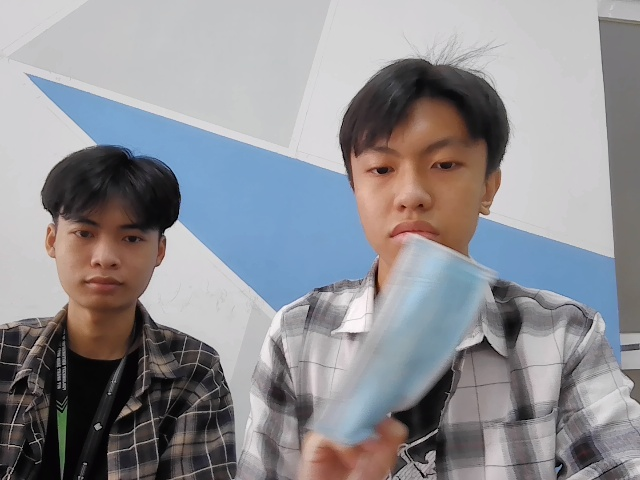human: (340, 59, 497, 250), (41, 133, 178, 306)
mask: (313, 232, 495, 455)
